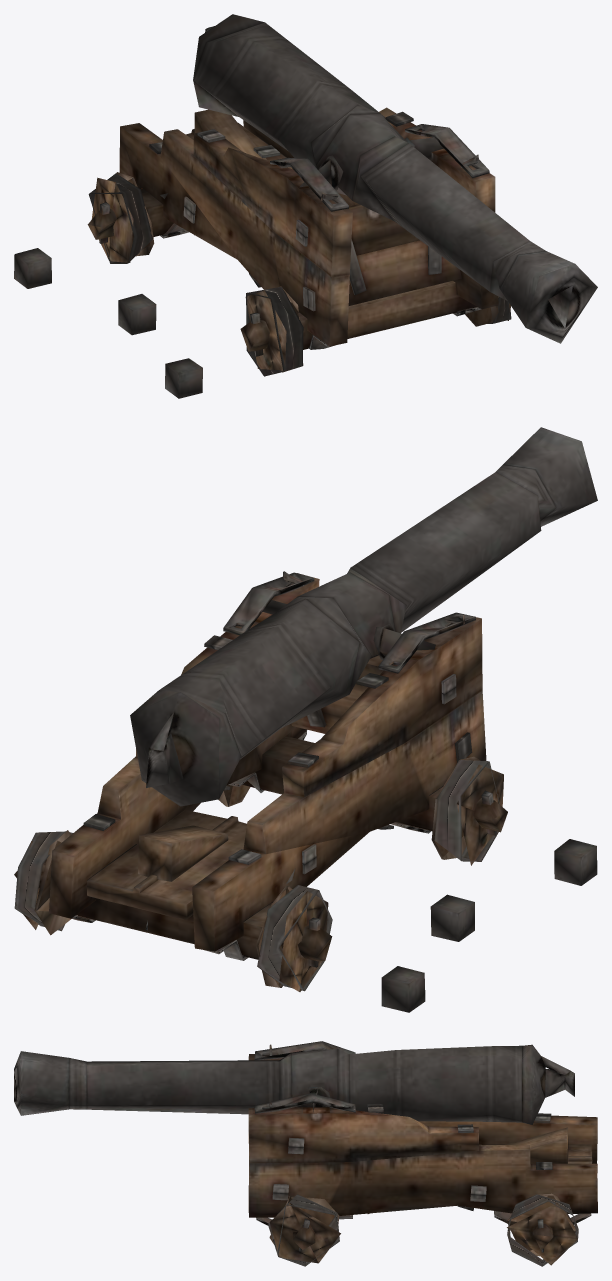
File: canon.glb
3 renders of one model, top to bottom at view 1: azimuth 30°, elevation 25°; view 2: azimuth 150°, elevation 25°; view 3: azimuth 270°, elevation 25°, orthographic. The views are drawn at different scales.
Parts seen in each view (by area): view 1: cannon_01_ball_01; view 2: cannon_01_ball_01; view 3: cannon_01_ball_01.
Part boxes in pixels (x1,y1,x2,y2): cannon_01_ball_01: [14, 14, 597, 398]; cannon_01_ball_01: [14, 427, 597, 1012]; cannon_01_ball_01: [14, 1041, 597, 1266].
Size of the model in its own units: 1.2 by 0.7657 by 2.29.
1 material, 1 textured.
